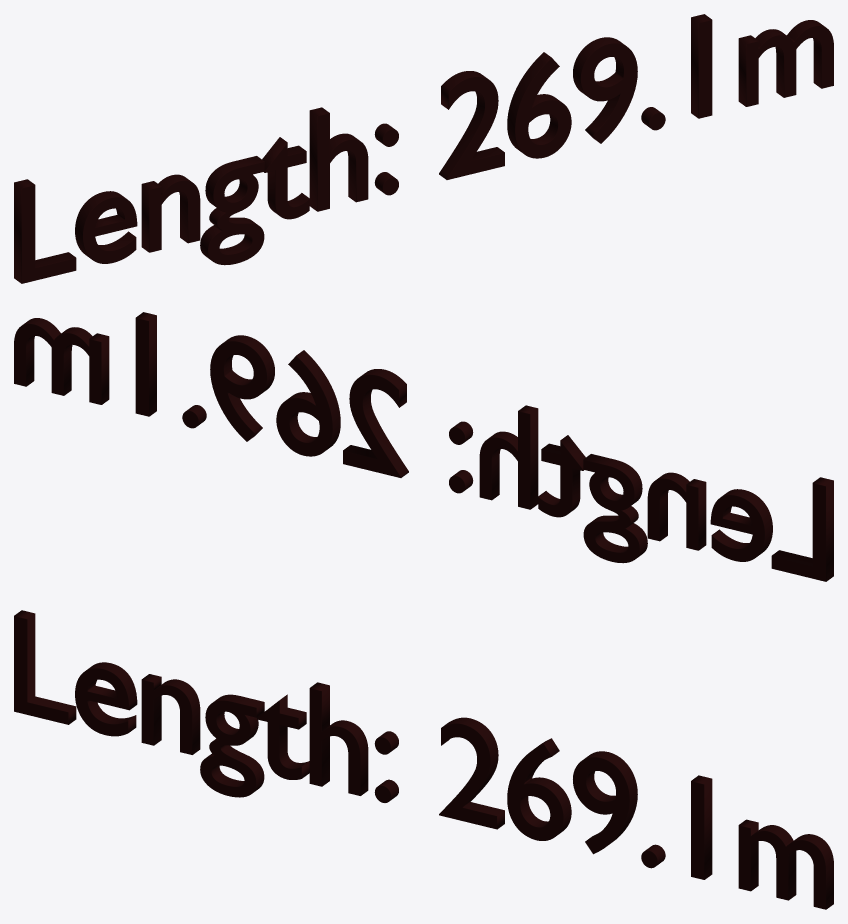
File: text_technical02.glb
The picture shows the model from 3 angles, top to bottom: view 1: azimuth 30°, elevation 25°; view 2: azimuth 150°, elevation 25°; view 3: azimuth 330°, elevation 25°; orthographic projection.
Visible parts, largest first — view 1: technical02; view 2: technical02; view 3: technical02.
Part boxes in pixels (x1=…): technical02: x1=14, y1=14, x2=833, y2=283; technical02: x1=14, y1=312, x2=833, y2=581; technical02: x1=14, y1=610, x2=833, y2=909.
Bounding box in the file's own units: 105 × 15.92 × 1.79.
